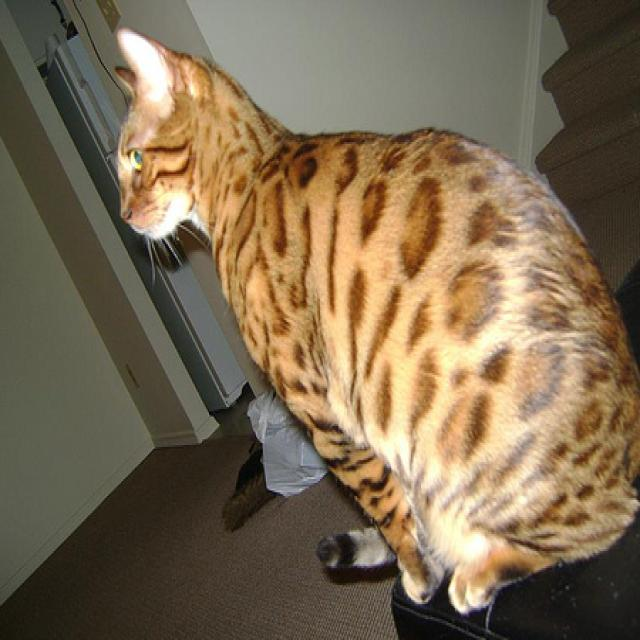Bengal: (99, 17, 640, 619)
